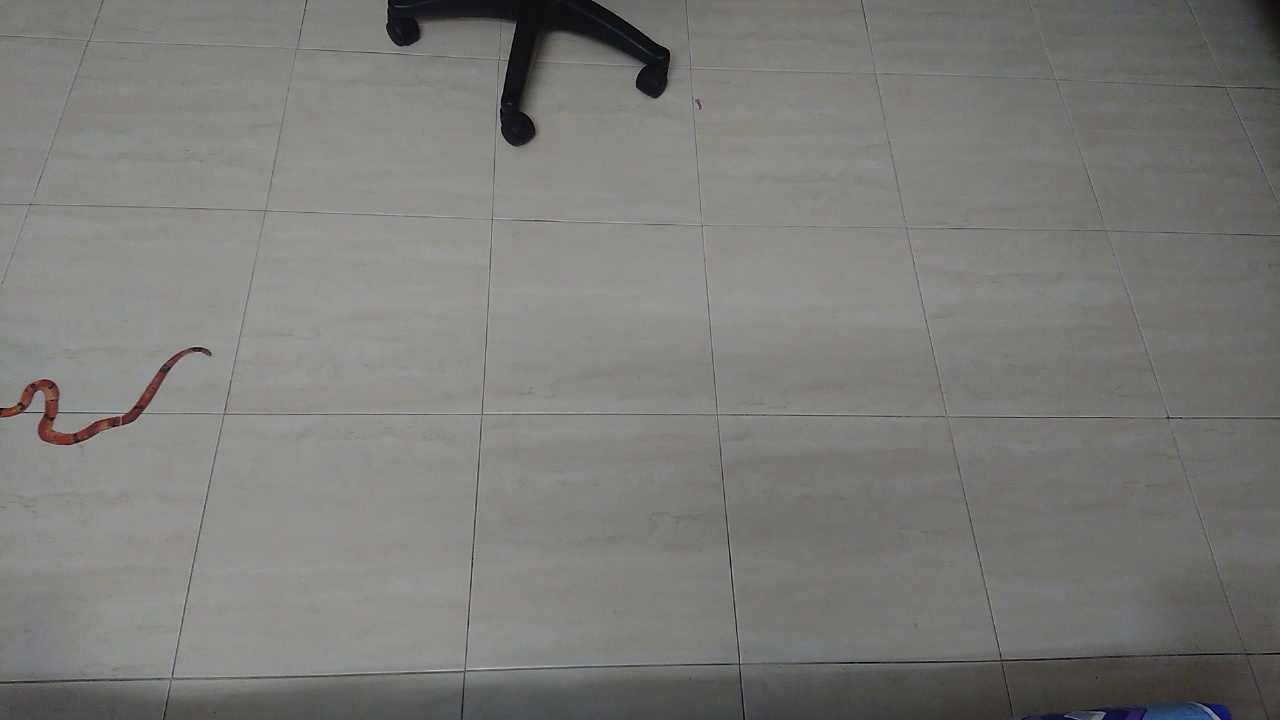snake: (1, 328, 235, 455)
